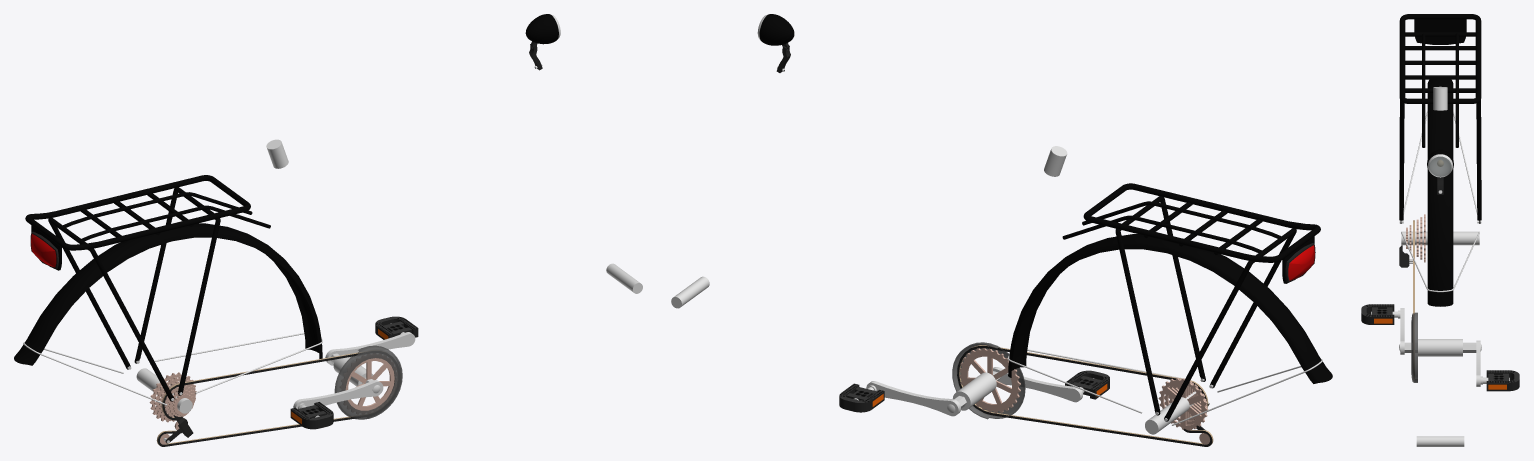
The model's file is init.glb.
The picture shows the model from 3 angles, left to right: view 1: azimuth 30°, elevation 25°; view 2: azimuth 150°, elevation 25°; view 3: azimuth 270°, elevation 25°; orthographic projection. The views are drawn at different scales.
Parts seen in each view (by area): view 1: Bike01\gepaecktraeger, Bike01\SchutzblechBack, Bike01\Pedale, Bike01\kettenschutz, Bike01\ketteSimple, Bike01\Kettenantrieb, Bike01\Katzenauge, Bike01\Lampe, Bike01\SchutzblechHalterBackFront; view 2: Bike01\gepaecktraeger, Bike01\SchutzblechBack, Bike01\Pedale, Bike01\ketteSimple, Bike01\Kettenantrieb, Bike01\kettenschutz, Bike01\Katzenauge, Bike01\Ritzel 2, Bike01\Lampe, Bike01\#axisBack; view 3: Bike01\gepaecktraeger, Bike01\SchutzblechBack, Bike01\Pedale, Bike01\Katzenauge, Bike01\#axisBack, Bike01\Lampe, Bike01\#axisFront, Bike01\kettenschutz, Bike01\Glasscheibe, Bike01\SchutzblechHalterBackBack, Bike01\#saddle, Bike01\SchutzblechHalterBackFront (+2 smaller).
Boxes of the visible parts, x1,y1,x2,y2 form: Bike01\gepaecktraeger: (25,175,270,401); Bike01\SchutzblechBack: (14,223,322,365); Bike01\Pedale: (290,316,418,429); Bike01\kettenschutz: (334,345,402,419); Bike01\ketteSimple: (156,352,365,446); Bike01\Kettenantrieb: (345,358,394,410); Bike01\Katzenauge: (30,225,61,270); Bike01\Lampe: (525,14,560,46); Bike01\SchutzblechHalterBackFront: (154,333,322,393); Bike01\gepaecktraeger: (1062,183,1320,421); Bike01\SchutzblechBack: (1008,234,1332,383); Bike01\Pedale: (839,367,1109,416); Bike01\ketteSimple: (957,345,1213,446); Bike01\Kettenantrieb: (959,348,1020,413); Bike01\kettenschutz: (952,342,1025,419); Bike01\Katzenauge: (1282,236,1315,283); Bike01\Ritzel 2: (1158,377,1208,430); Bike01\Lampe: (757,14,794,48); Bike01\#axisBack: (1145,391,1196,434); Bike01\gepaecktraeger: (1399,14,1481,223); Bike01\SchutzblechBack: (1427,79,1453,306); Bike01\Pedale: (1361,304,1519,391); Bike01\Katzenauge: (1414,19,1466,44); Bike01\#axisBack: (1401,231,1479,245); Bike01\Lampe: (1427,149,1453,177); Bike01\#axisFront: (1416,436,1464,446); Bike01\kettenschutz: (1411,312,1417,382); Bike01\Glasscheibe: (1429,156,1451,176); Bike01\SchutzblechHalterBackBack: (1401,111,1477,223); Bike01\#saddle: (1433,86,1447,110); Bike01\SchutzblechHalterBackFront: (1401,231,1479,292).
Size of the model in its own units: 1.44 by 0.7731 by 0.354.
13 materials, 1 textured.
